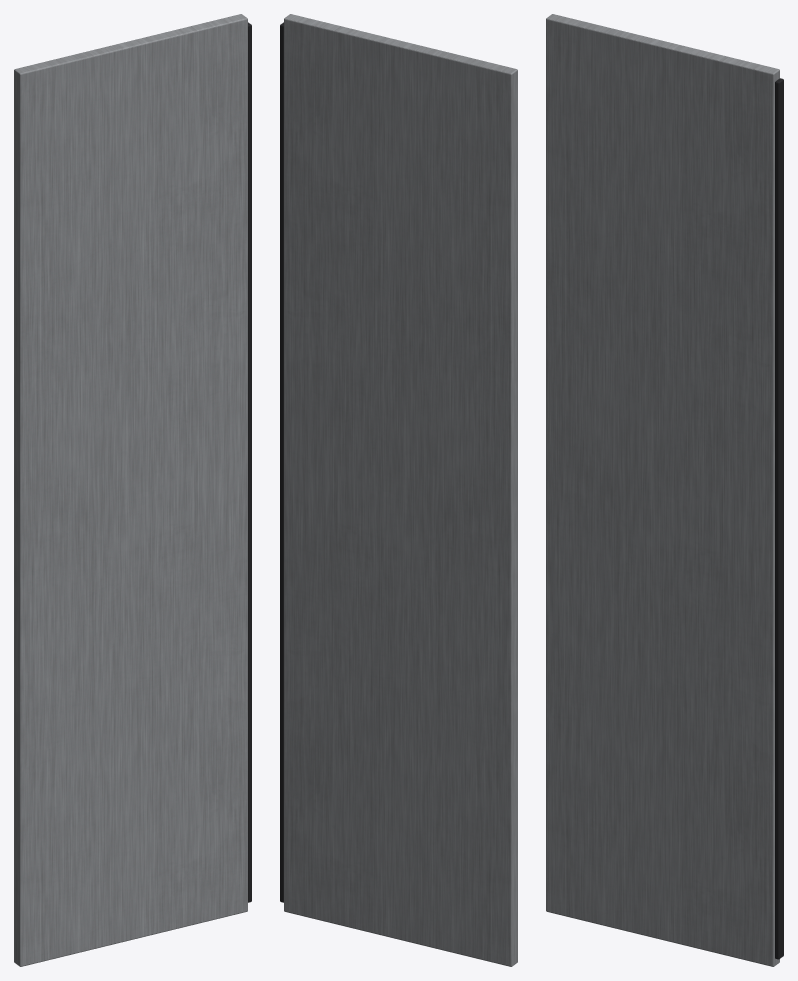
Rendered from hotel-elevator-door-leaf.glb.
3 views of the same model, side by side, from view 1: azimuth 30°, elevation 25°; view 2: azimuth 150°, elevation 25°; view 3: azimuth 330°, elevation 25° (orthographic).
Parts seen in each view (by area): view 1: car_brushed, rubber; view 2: car_brushed, rubber; view 3: car_brushed, rubber.
Part boxes in pixels (x1,y1,x2,y2): car_brushed: [14, 14, 247, 966]; rubber: [248, 22, 251, 902]; car_brushed: [284, 14, 517, 966]; rubber: [280, 22, 283, 902]; car_brushed: [546, 14, 779, 966]; rubber: [775, 78, 783, 959].
Bounding box in the file's own units: 0.6 × 2.2 × 0.03.
3 materials, 1 textured.
